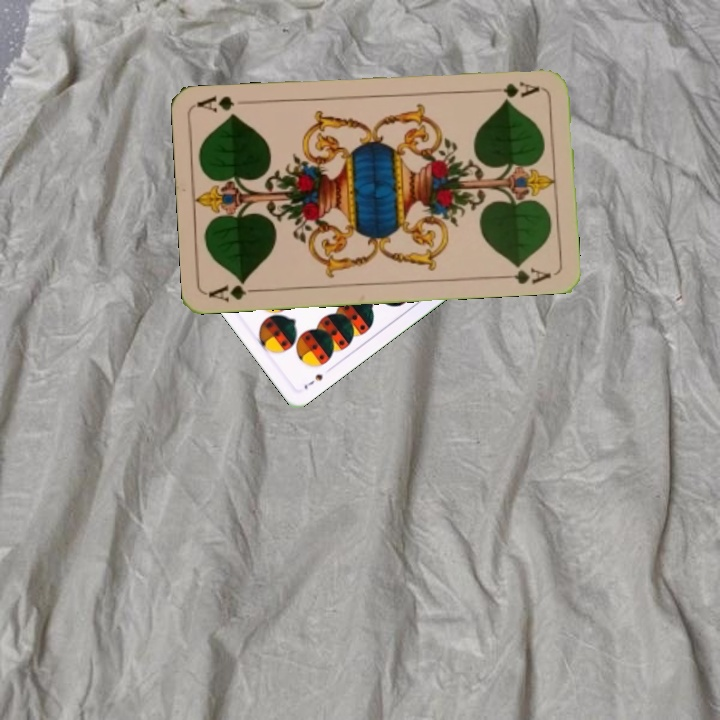GA: (206, 276, 265, 304), (499, 77, 542, 102)
S7: (300, 370, 325, 392)
